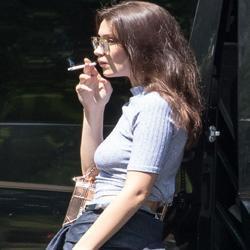smoking: (66, 57, 114, 106)
